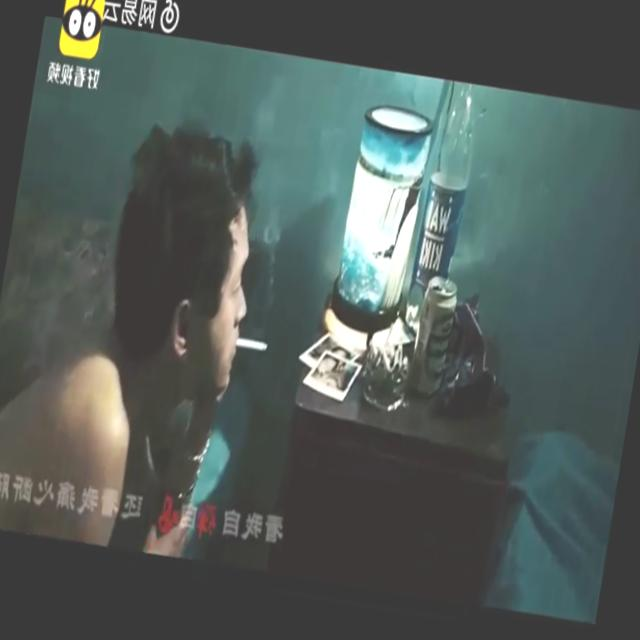smoke: (234, 336, 272, 358)
